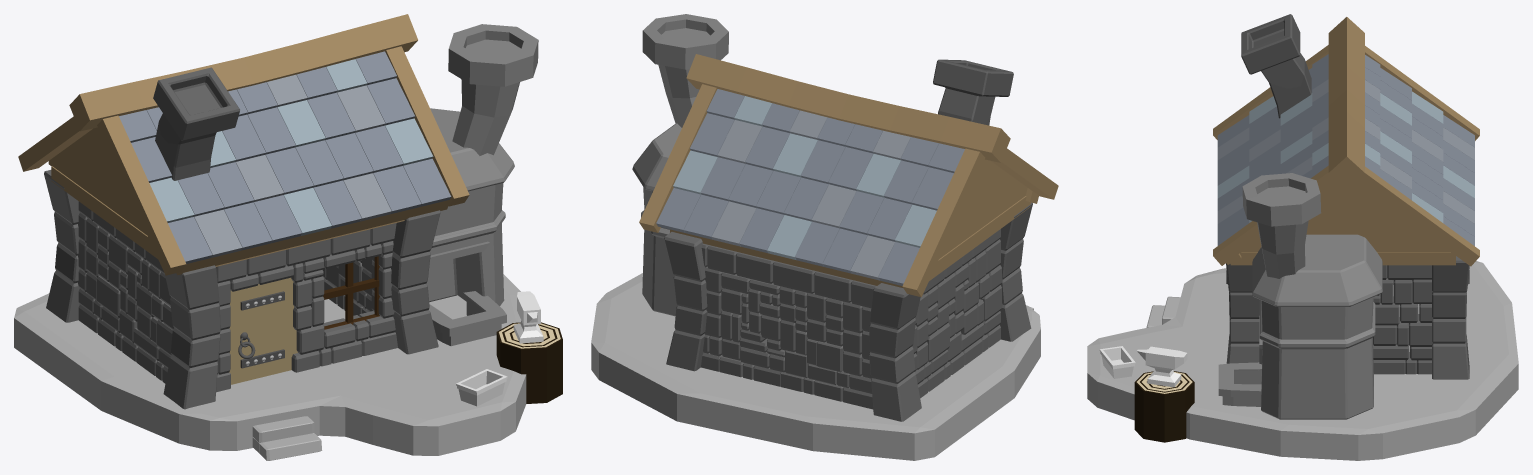
The model's file is smithy.fbx.
The picture shows the model from 3 angles, left to right: view 1: azimuth 30°, elevation 25°; view 2: azimuth 150°, elevation 25°; view 3: azimuth 270°, elevation 25°; orthographic projection. The views are drawn at different scales.
Visible parts, largest first — view 1: Cube.218; view 2: Cube.218; view 3: Cube.218.
Boxes of the visible parts, bbox=[...] form: Cube.218: bbox=[14, 14, 562, 460]; Cube.218: bbox=[591, 14, 1058, 460]; Cube.218: bbox=[1087, 14, 1518, 460].
Size of the model in its own units: 2089 by 1582 by 2135.
